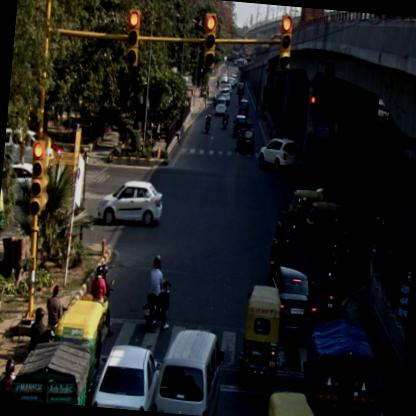car: (150, 327, 228, 415), (92, 340, 164, 412), (265, 266, 320, 333), (96, 179, 166, 230), (259, 136, 299, 174), (234, 127, 256, 154), (233, 115, 248, 137), (214, 97, 226, 118), (238, 98, 251, 115), (221, 87, 231, 103), (236, 81, 244, 94)
motorcycle: (142, 256, 174, 332), (90, 263, 121, 338), (318, 260, 346, 322), (272, 210, 298, 267), (268, 222, 285, 278), (0, 357, 17, 399), (221, 104, 230, 130), (204, 112, 213, 136)
truck: (298, 316, 384, 415), (13, 338, 96, 406)
